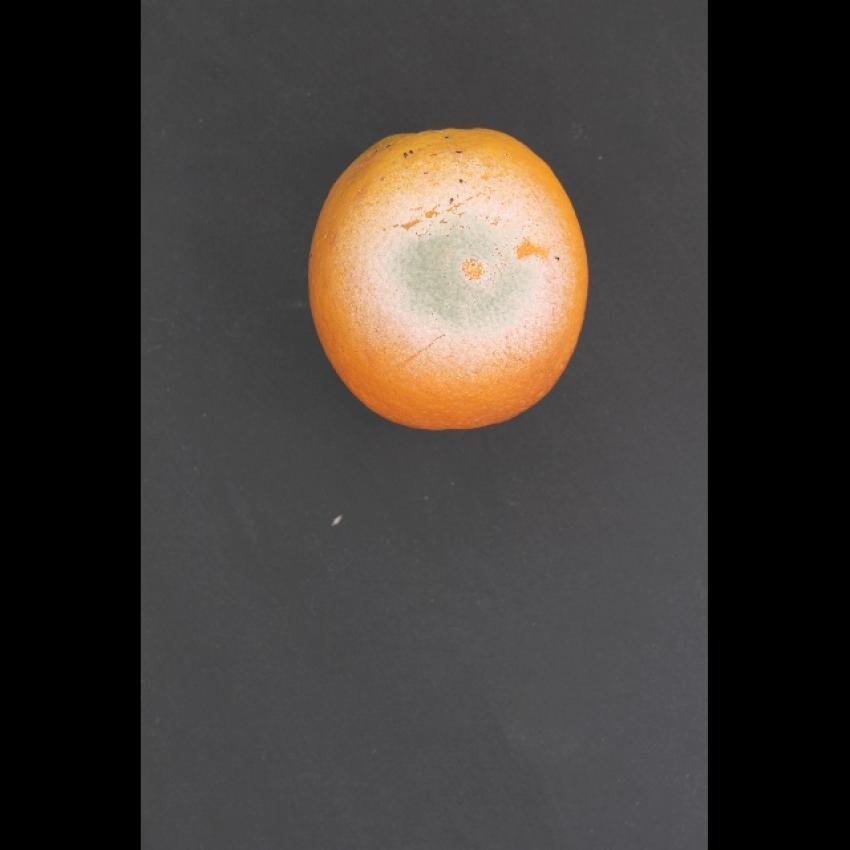Mal estado: (298, 116, 602, 441)
